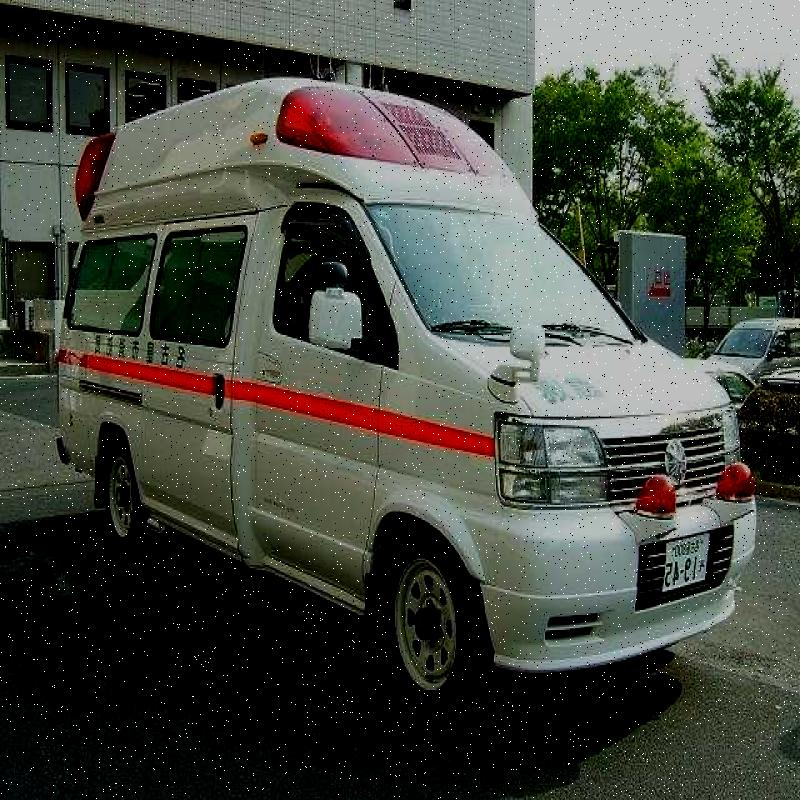AmbulanceSiren: (276, 94, 482, 176)
